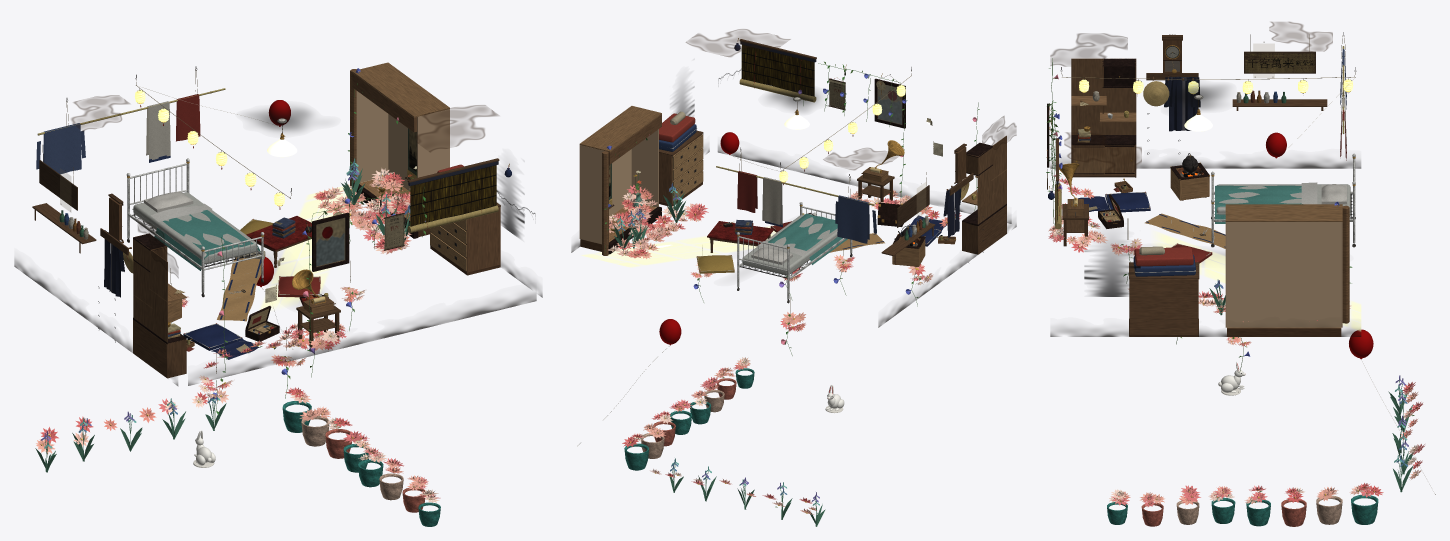
The model's file is upper-dream-addon.glb.
3 renders of one model, left to right at view 1: azimuth 30°, elevation 25°; view 2: azimuth 150°, elevation 25°; view 3: azimuth 270°, elevation 25°, orthographic. The views are drawn at different scales.
Parts seen in each view (by area): view 1: UD_Tokonoma, UD_Dream_Flowers_ShopFloor, UD_Dream_HospitalBed, UD_Wall_Decals, UD_Chigaidana, UD_Sudare_Window2, UD_Ceiling_Decals, UD_DryingPole_Cloths, UD_Dream_Flowers_Tokonoma, UD_Tansu_Futon, UD_SunPool_Decals, UD_Dream_Flowers_Window (+11 smaller); view 2: UD_Tokonoma, UD_Dream_Flowers_ShopFloor, UD_Dream_HospitalBed, UD_Chigaidana, UD_Dream_Flowers_Tokonoma, UD_DryingPole_Cloths, UD_Tansu_Futon, UD_Sudare_Window2, UD_Wall_Decals, UD_Ceiling_Decals, UD_SunPool_Decals, UD_WestBay2_Signboard_Shelf (+9 smaller); view 3: UD_Tokonoma, UD_Chigaidana, UD_Dream_Flowers_ShopFloor, UD_Tansu_Futon, UD_Wall_Decals, UD_Ceiling_Decals, UD_Dream_HospitalBed, UD_WestBay2_Signboard_Shelf, UD_CoatRail_Haori, UD_Dream_Flowers_Window, UD_Hibachi_Kettle, UD_SunPool_Decals (+13 smaller).
Boxes of the visible parts, <box> form: UD_Tokonoma: <box>350,62,449,238</box>; UD_Dream_Flowers_ShopFloor: <box>35,387,440,526</box>; UD_Dream_HospitalBed: <box>126,158,264,297</box>; UD_Wall_Decals: <box>14,168,542,385</box>; UD_Chigaidana: <box>133,233,186,378</box>; UD_Sudare_Window2: <box>407,158,499,232</box>; UD_Ceiling_Decals: <box>71,95,498,152</box>; UD_DryingPole_Cloths: <box>36,66,225,174</box>; UD_Dream_Flowers_Tokonoma: <box>314,68,411,254</box>; UD_Tansu_Futon: <box>98,164,500,342</box>; UD_SunPool_Decals: <box>259,186,351,310</box>; UD_Dream_Flowers_Window: <box>204,186,426,372</box>; UD_Tokonoma: <box>579,106,661,255</box>; UD_Dream_Flowers_ShopFloor: <box>622,357,825,526</box>; UD_Dream_HospitalBed: <box>736,202,852,303</box>; UD_Chigaidana: <box>962,135,1006,254</box>; UD_Dream_Flowers_Tokonoma: <box>604,134,708,258</box>; UD_DryingPole_Cloths: <box>716,147,876,243</box>; UD_Tansu_Futon: <box>659,111,983,262</box>; UD_Sudare_Window2: <box>739,39,816,102</box>; UD_Wall_Decals: <box>571,69,1016,327</box>; UD_Ceiling_Decals: <box>686,29,900,170</box>; UD_SunPool_Decals: <box>581,226,776,267</box>; UD_WestBay2_Signboard_Shelf: <box>881,172,935,263</box>; UD_Tokonoma: <box>1225,204,1349,336</box>; UD_Chigaidana: <box>1071,58,1136,177</box>; UD_Dream_Flowers_ShopFloor: <box>1107,375,1424,526</box>; UD_Tansu_Futon: <box>1129,113,1199,336</box>; UD_Wall_Decals: <box>1050,33,1361,336</box>; UD_Ceiling_Decals: <box>1064,22,1332,173</box>; UD_Dream_HospitalBed: <box>1211,153,1355,247</box>; UD_WestBay2_Signboard_Shelf: <box>1232,34,1327,110</box>; UD_CoatRail_Haori: <box>1143,73,1200,131</box>; UD_Dream_Flowers_Window: <box>1046,58,1107,252</box>; UD_Hibachi_Kettle: <box>1170,153,1209,200</box>; UD_SunPool_Decals: <box>1153,231,1361,331</box>.
Size of the model in its own units: 5.85 by 5.9 by 5.53.
56 materials, 40 textured.
